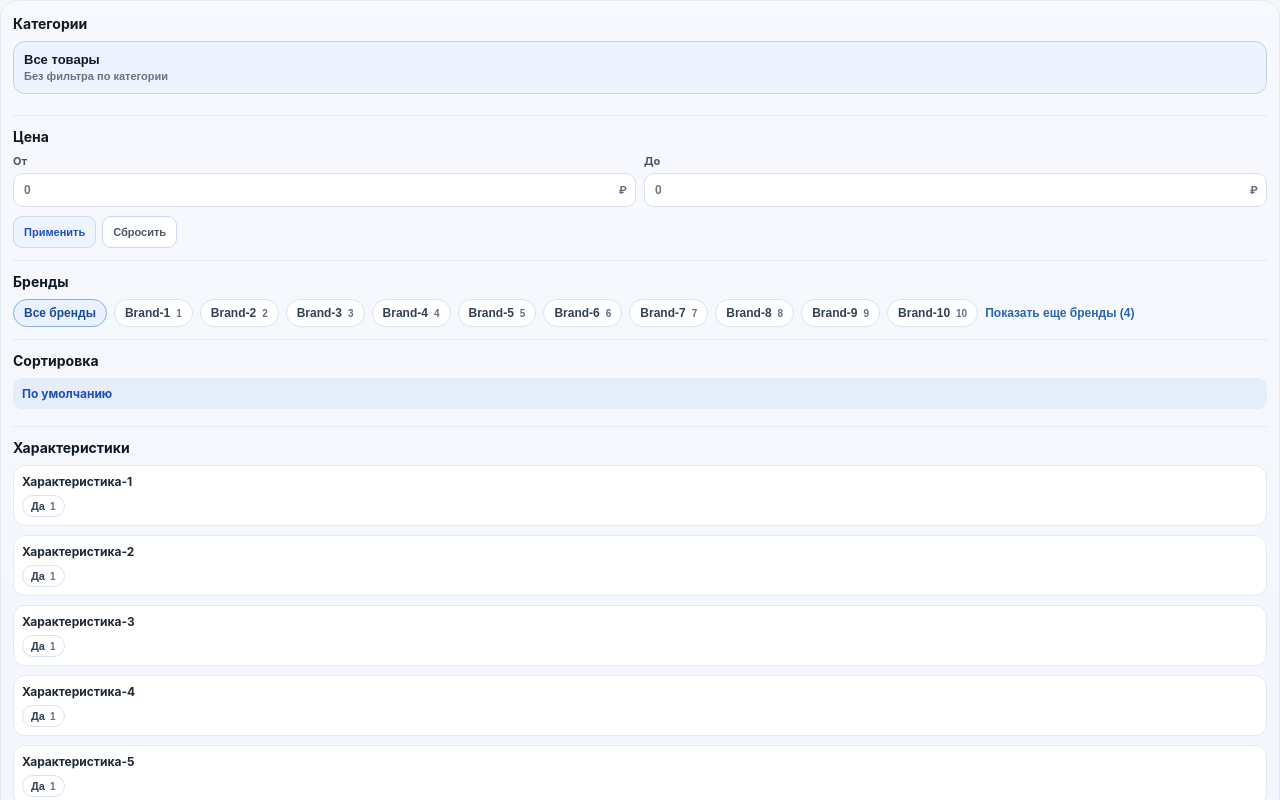
Test: Sidebar catalog behavior › large amount of brands and characteristics is paged with show more controls
Click the button "Показать еще бренды (4)" at (1060, 313), box x1=985 y1=299 x2=1134 y2=327
(page scrolled)
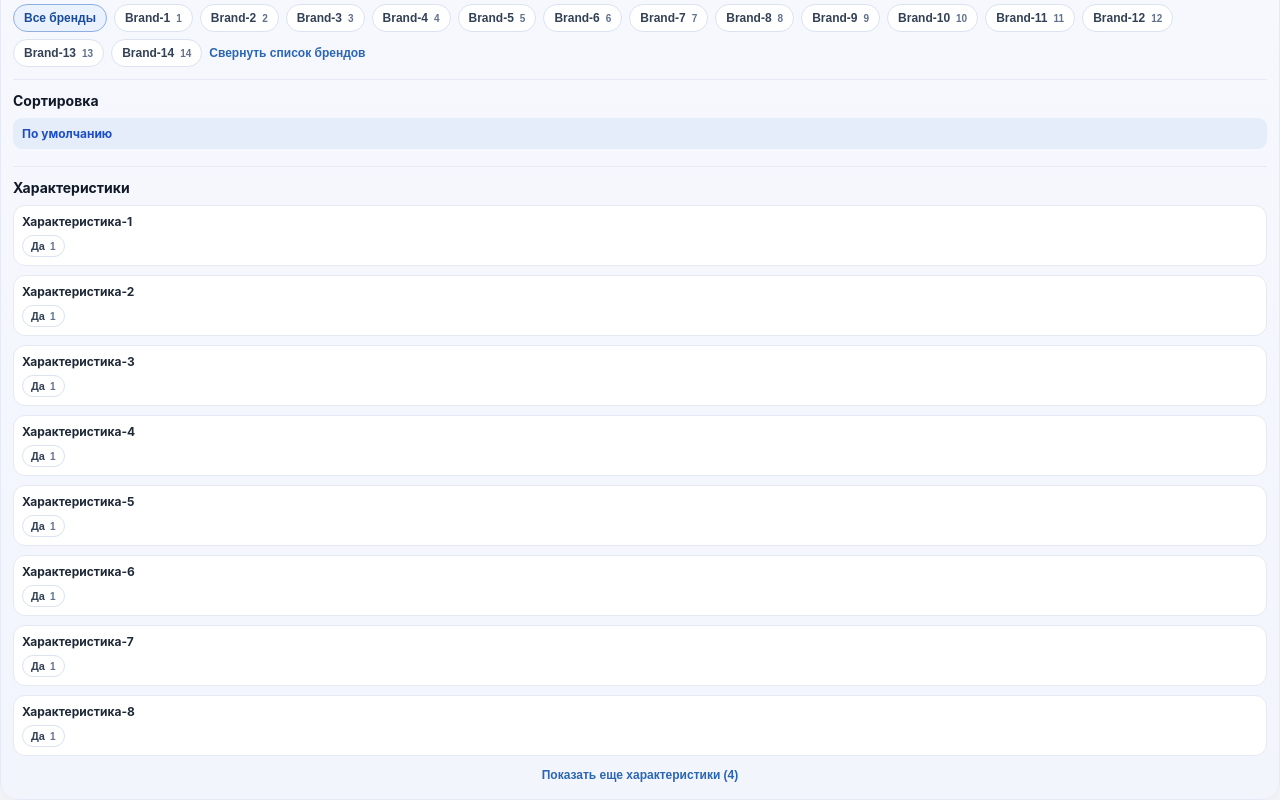
Expected: the button "Свернуть список брендов" is shown, x1=209 y1=39 x2=366 y2=67
Click the button "Показать еще характеристики (4)" at (640, 775), box x1=13 y1=765 x2=1267 y2=785
(page scrolled)
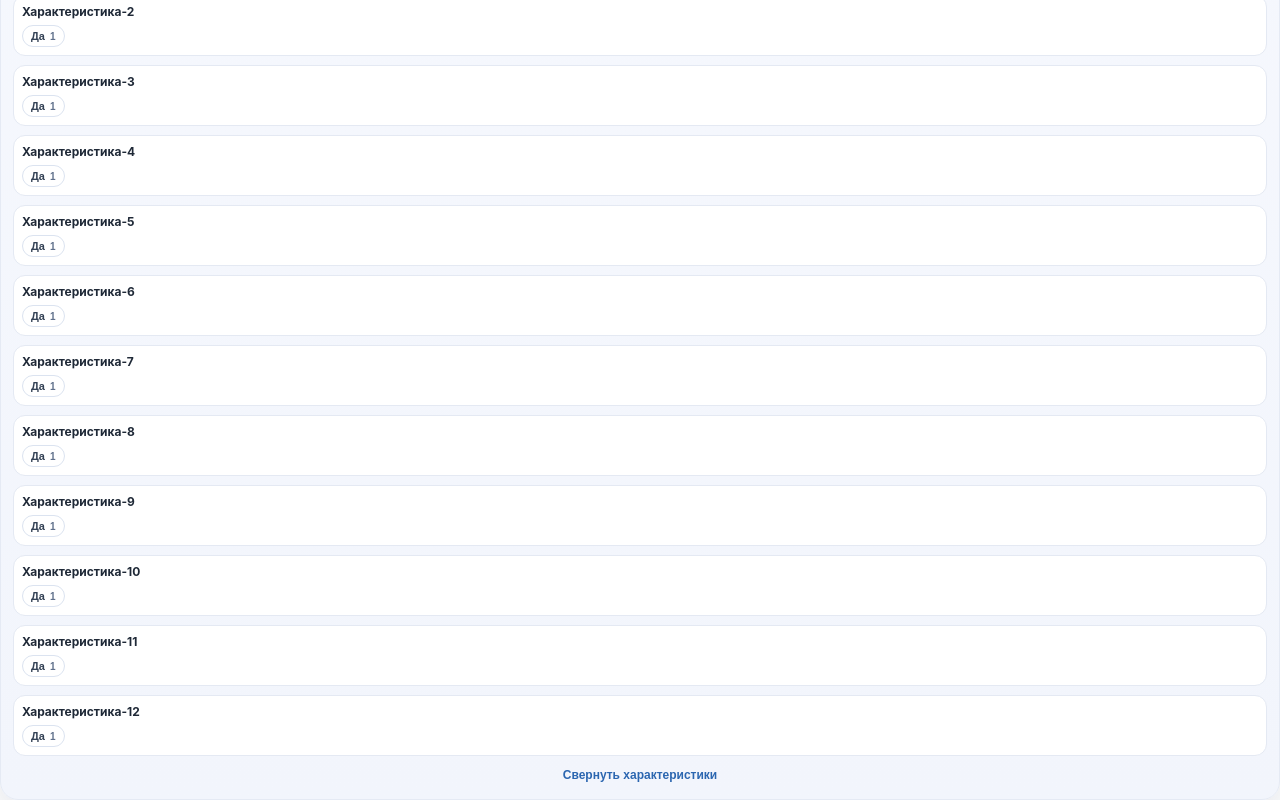
Expected: the button "Свернуть характеристики" is shown, x1=13 y1=765 x2=1267 y2=785
